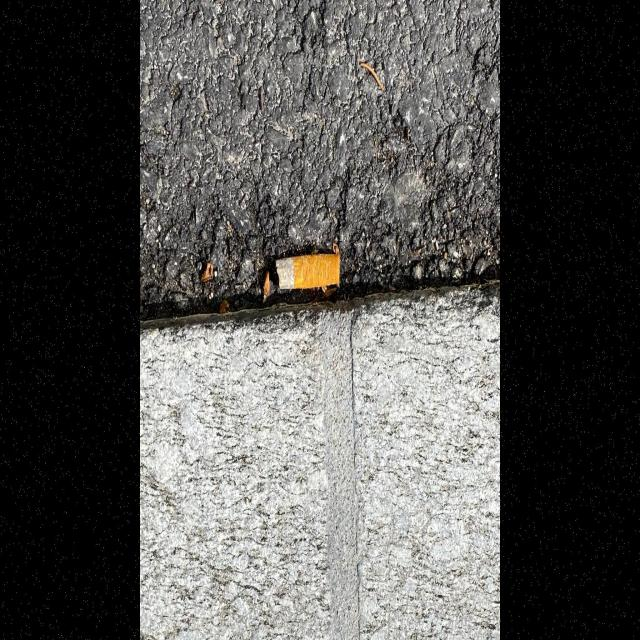other waste: (275, 252, 341, 290)
